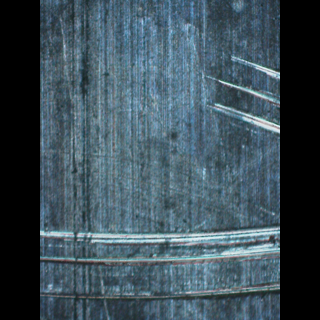d: (39, 217, 278, 304), (198, 38, 279, 144)
